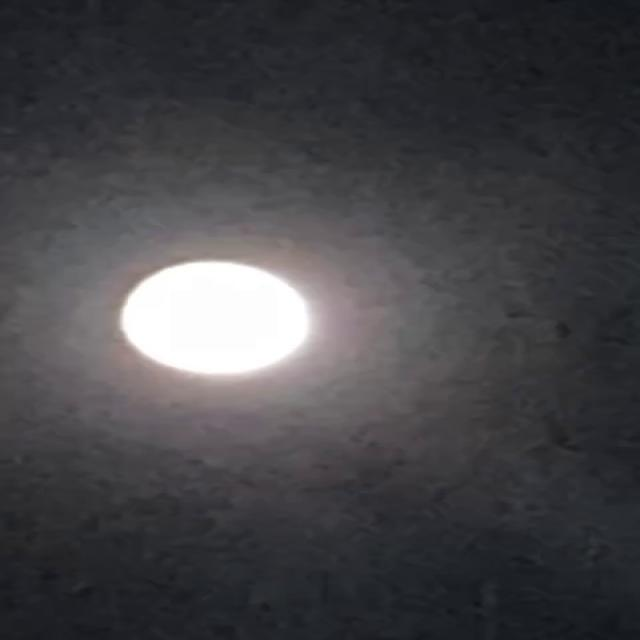moon: (96, 251, 326, 395)
